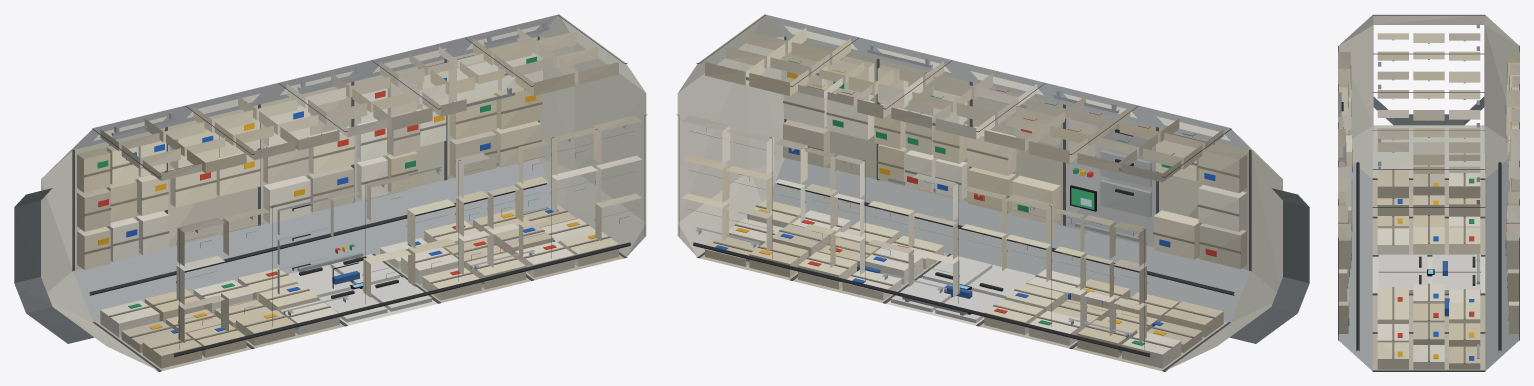
File: m-leonardo.glb
The picture shows the model from 3 angles, left to right: view 1: azimuth 30°, elevation 25°; view 2: azimuth 150°, elevation 25°; view 3: azimuth 270°, elevation 25°; orthographic projection. The views are drawn at different scales.
Parts seen in each view (by area): view 1: leonardo; view 2: leonardo; view 3: leonardo.
Boxes of the visible parts, x1,y1,x2,y2 form: leonardo: (14, 14, 647, 371); leonardo: (676, 14, 1309, 371); leonardo: (1338, 14, 1519, 371).
Size of the model in its own units: 6.35 by 2.1 by 2.1.
